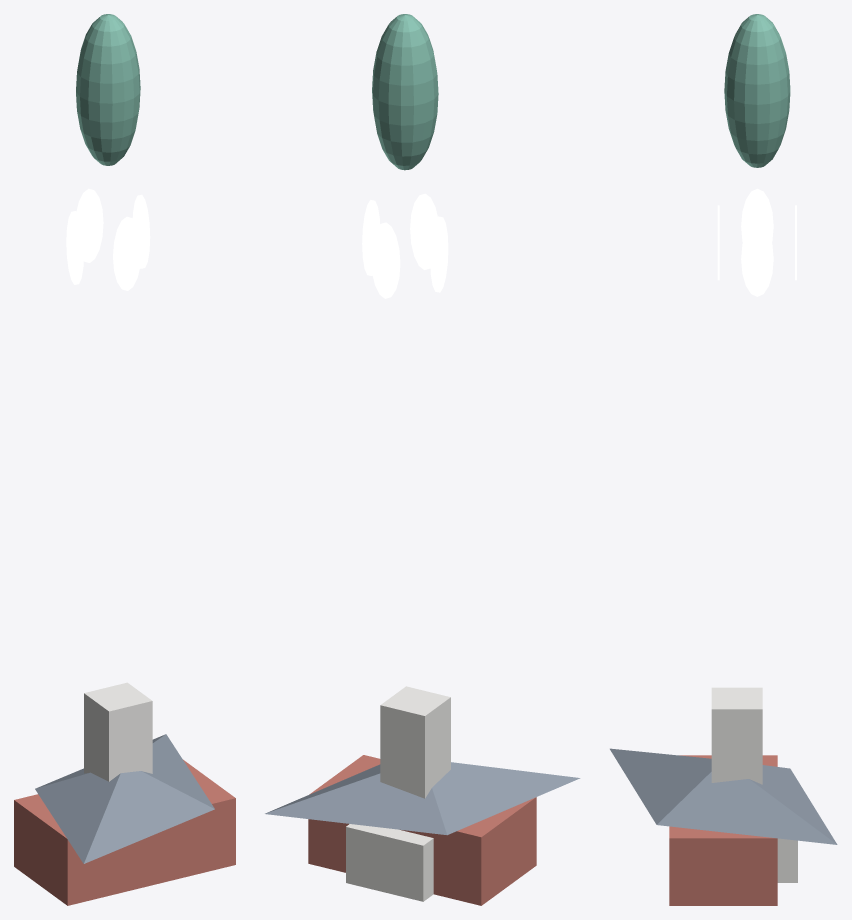
The model's file is aissms-landmark.glb.
3 renders of one model, left to right at view 1: azimuth 30°, elevation 25°; view 2: azimuth 150°, elevation 25°; view 3: azimuth 270°, elevation 25°, orthographic. The views are drawn at different scales.
Parts seen in each view (by area): view 1: AISSMS_MainHall, AISSMS_Roof, AISSMS_Dome, AISSMS_ClockTower, Clock_Face.001, Clock_Face, Clock_Face.002, Clock_Face.003; view 2: AISSMS_Roof, AISSMS_MainHall, AISSMS_Dome, AISSMS_ClockTower, AISSMS_Portico, Clock_Face, Clock_Face.001, Clock_Face.002, Clock_Face.003; view 3: AISSMS_Roof, AISSMS_MainHall, AISSMS_Dome, AISSMS_ClockTower, Clock_Face.003, Clock_Face.002, AISSMS_Portico.
Boxes of the visible parts, left/top/right/bottom form: AISSMS_MainHall: left=14, top=759, right=235, bottom=905; AISSMS_Roof: left=35, top=734, right=214, bottom=863; AISSMS_Dome: left=76, top=14, right=140, bottom=165; AISSMS_ClockTower: left=84, top=682, right=152, bottom=781; Clock_Face.001: left=113, top=216, right=141, bottom=290; Clock_Face: left=76, top=188, right=103, bottom=262; Clock_Face.002: left=66, top=211, right=83, bottom=284; Clock_Face.003: left=132, top=194, right=150, bottom=268; AISSMS_Roof: left=265, top=762, right=580, bottom=835; AISSMS_MainHall: left=308, top=755, right=536, bottom=905; AISSMS_Dome: left=372, top=14, right=438, bottom=170; AISSMS_ClockTower: left=380, top=686, right=450, bottom=798; AISSMS_Portico: left=346, top=824, right=433, bottom=901; Clock_Face: left=371, top=222, right=400, bottom=298; Clock_Face.001: left=410, top=193, right=437, bottom=269; Clock_Face.002: left=430, top=216, right=448, bottom=292; Clock_Face.003: left=362, top=200, right=379, bottom=275; AISSMS_Roof: left=610, top=748, right=837, bottom=844; AISSMS_MainHall: left=669, top=755, right=777, bottom=905; AISSMS_Dome: left=724, top=14, right=790, bottom=167; AISSMS_ClockTower: left=711, top=687, right=762, bottom=784; Clock_Face.003: left=741, top=221, right=773, bottom=296; Clock_Face.002: left=741, top=188, right=773, bottom=242; AISSMS_Portico: left=777, top=838, right=797, bottom=882.
Bounding box in the file's own units: 6.73 × 27.63 × 6.73.
